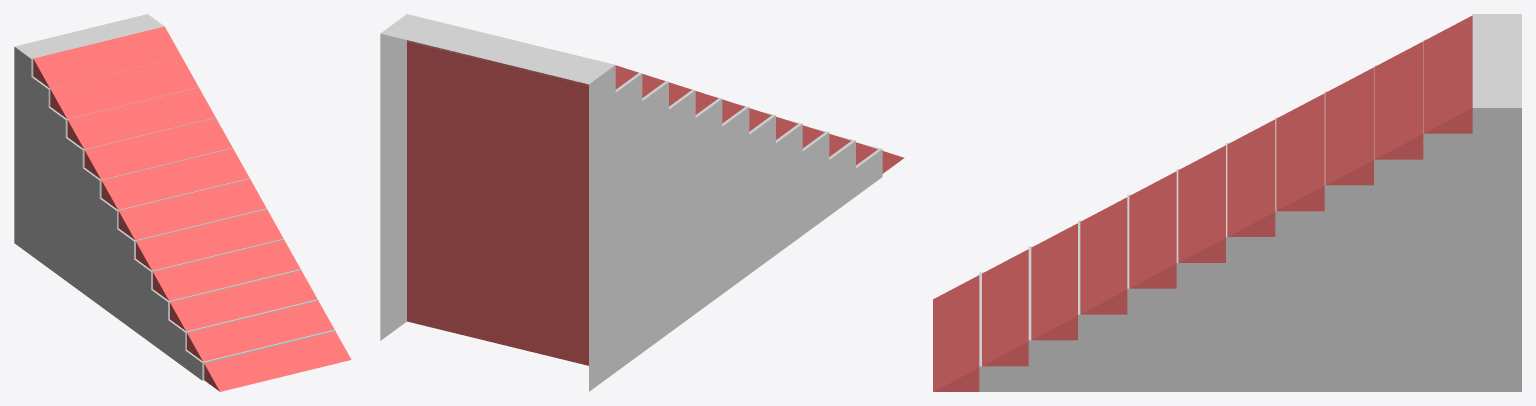
Rendered from prop_stairs_01.glb.
3 views of the same model, side by side, from view 1: azimuth 30°, elevation 25°; view 2: azimuth 150°, elevation 25°; view 3: azimuth 270°, elevation 25° (orthographic). The views are drawn at different scales.
Visible parts, largest first — view 1: brush_ramp, prop_stairs_01; view 2: prop_stairs_01, brush_ramp; view 3: prop_stairs_01, brush_ramp.
Boxes of the visible parts, left/top/right/bottom form: brush_ramp: left=33, top=26, right=351, bottom=391; prop_stairs_01: left=14, top=14, right=335, bottom=380; prop_stairs_01: left=380, top=14, right=882, bottom=391; brush_ramp: left=407, top=40, right=904, bottom=365; prop_stairs_01: left=979, top=14, right=1521, bottom=391; brush_ramp: left=933, top=15, right=1472, bottom=391.
Bounding box in the file's own units: 1.63 × 2.3 × 4.32.
